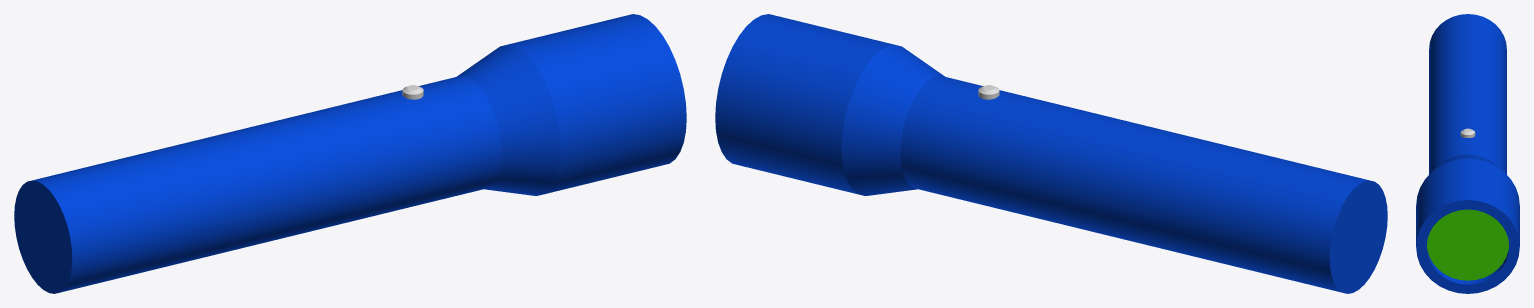
Rendered from Flashlight.fbx.
3 renders of one model, left to right at view 1: azimuth 30°, elevation 25°; view 2: azimuth 150°, elevation 25°; view 3: azimuth 270°, elevation 25°, orthographic. The views are drawn at different scales.
Parts seen in each view (by area): view 1: Flashlight_low; view 2: Flashlight_low; view 3: Flashlight_low.
Part boxes in pixels (bbox=[...]): Flashlight_low: bbox=[14, 14, 686, 293]; Flashlight_low: bbox=[715, 14, 1387, 293]; Flashlight_low: bbox=[1416, 14, 1519, 293].
Size of the model in its own units: 102 by 22.65 by 22.65.
